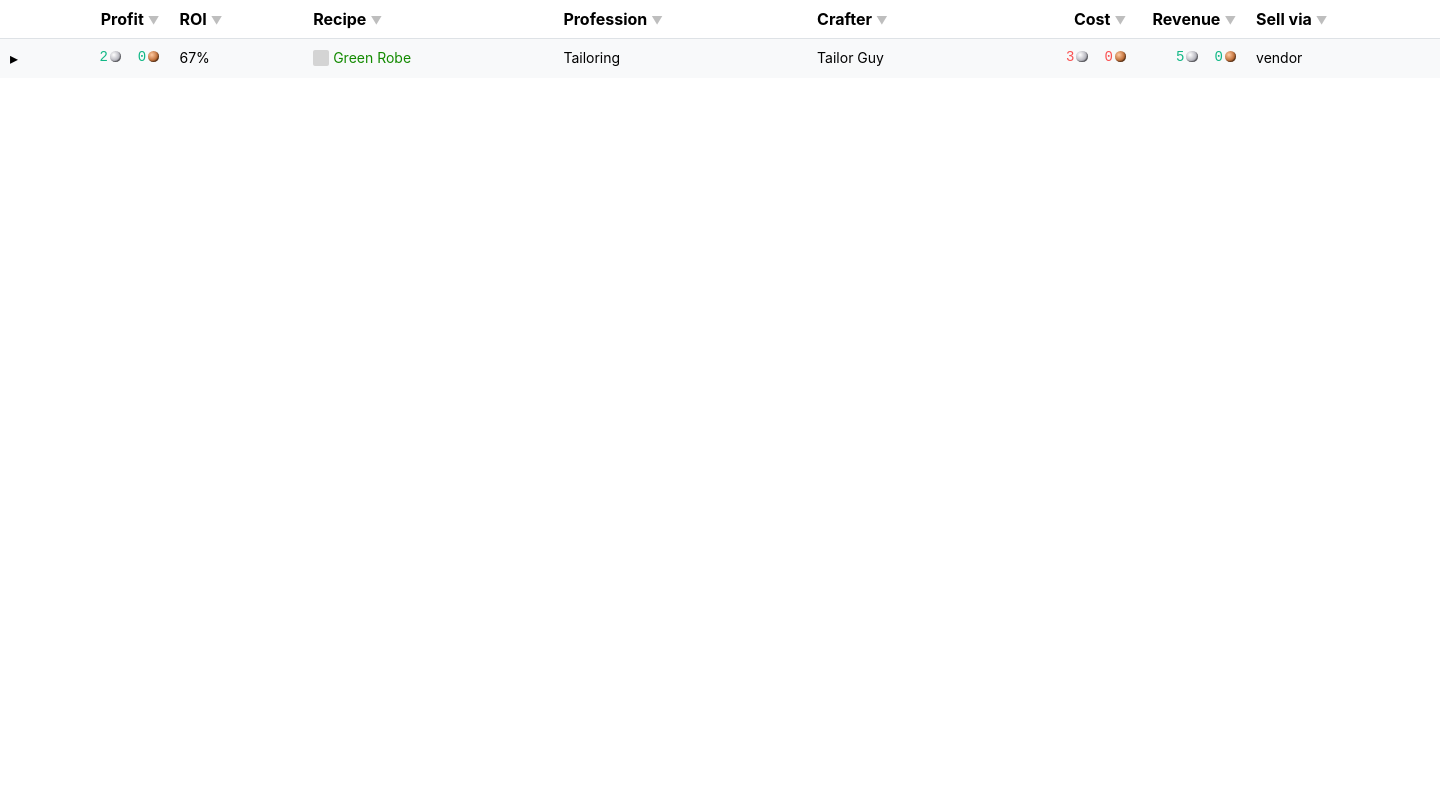
Test: ResultsTable › shows the recipe tooltip, not the item tooltip, on the recipe
The image size is (1440, 810).
Hover over the text "Green Robe" at (372, 58), box [333, 47, 411, 69]
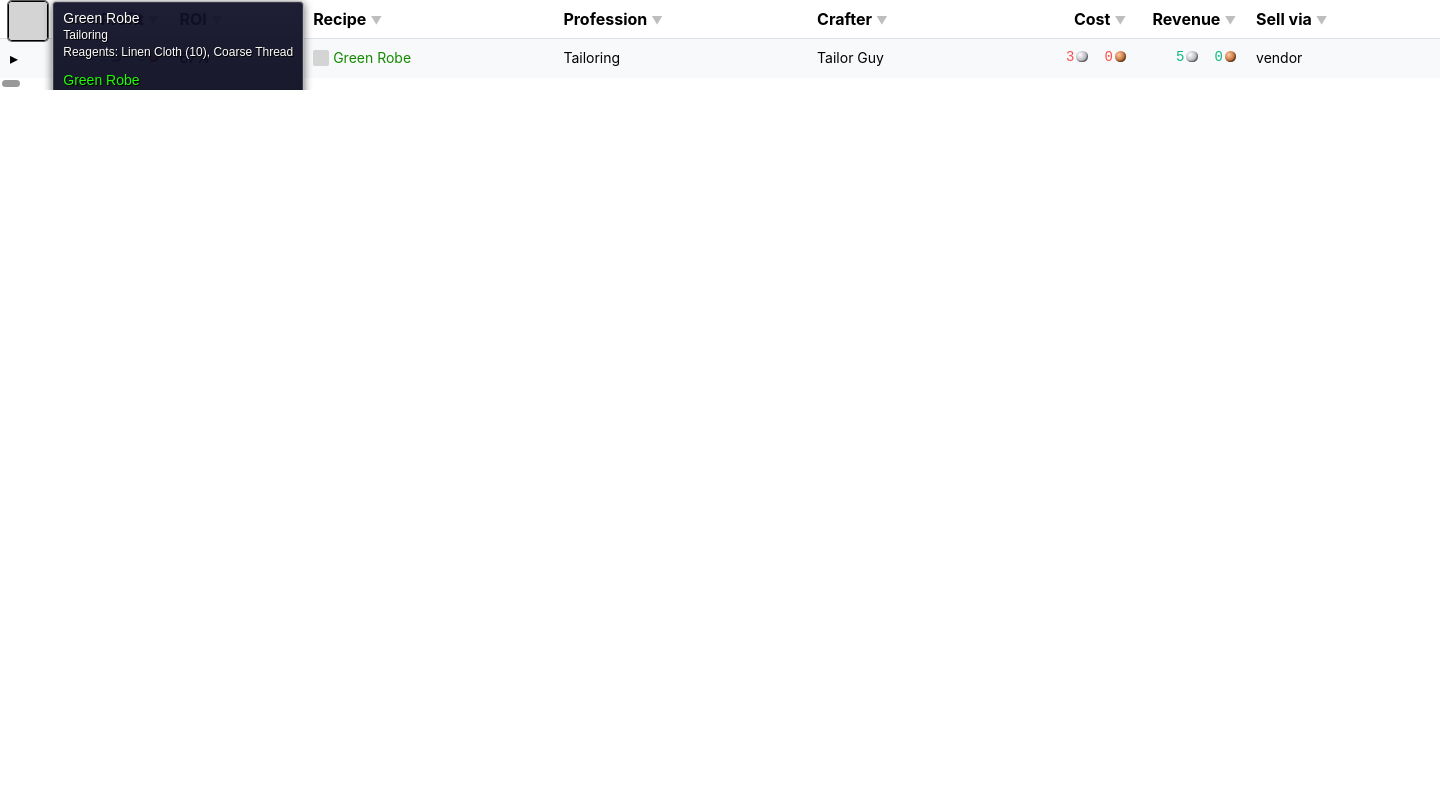
Expected: the text "Reagents: Linen Cloth (10), Coarse Thread" is shown, [63, 44, 293, 61]
